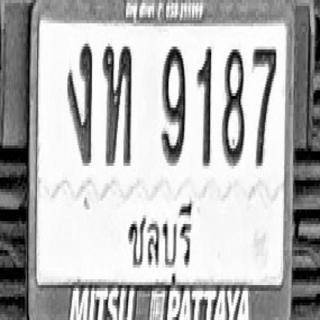A07: (67, 41, 92, 163)
A23: (102, 44, 131, 166)
N01: (196, 44, 212, 166)
N07: (252, 45, 276, 167)
N08: (222, 47, 244, 166)
N09: (161, 44, 185, 163)
P13: (121, 187, 201, 291)
